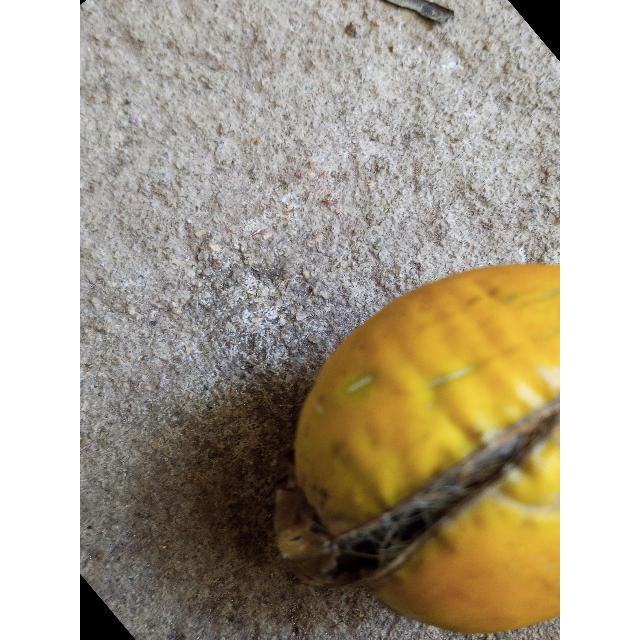damaged: (293, 264, 560, 636)
